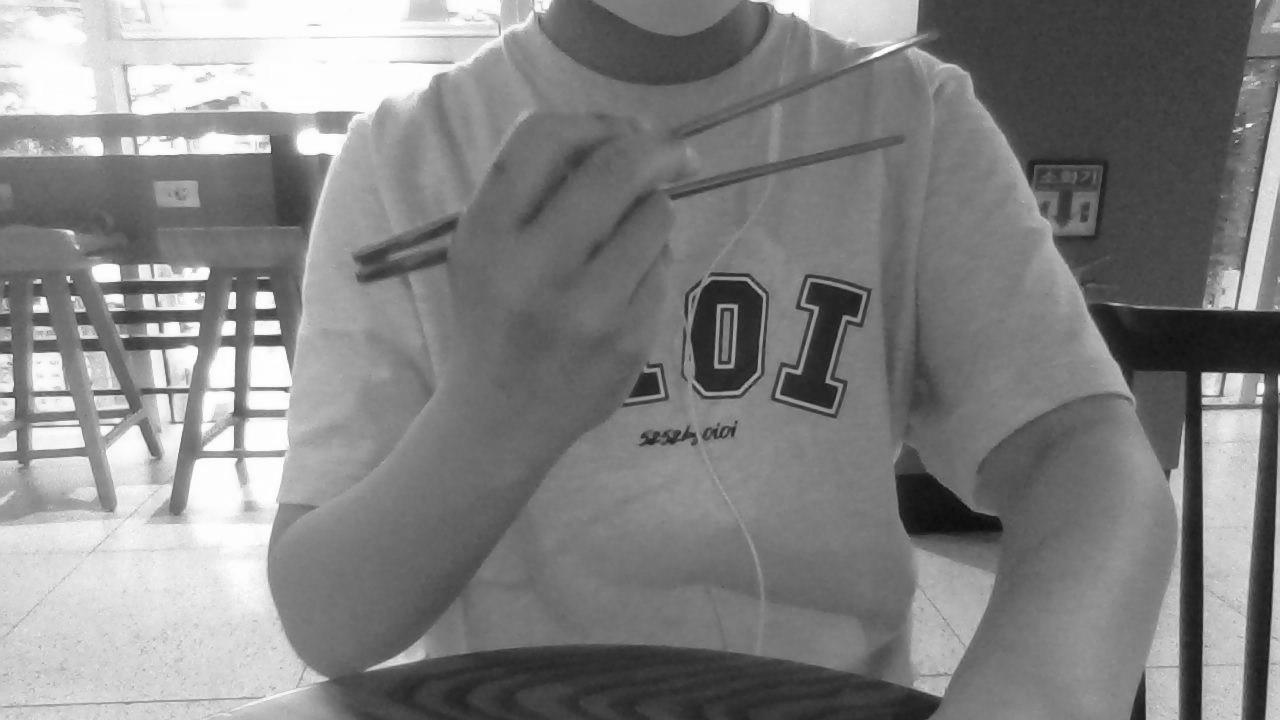chopstick: (352, 24, 939, 268), (354, 126, 906, 283)
hand: (448, 111, 700, 440)
